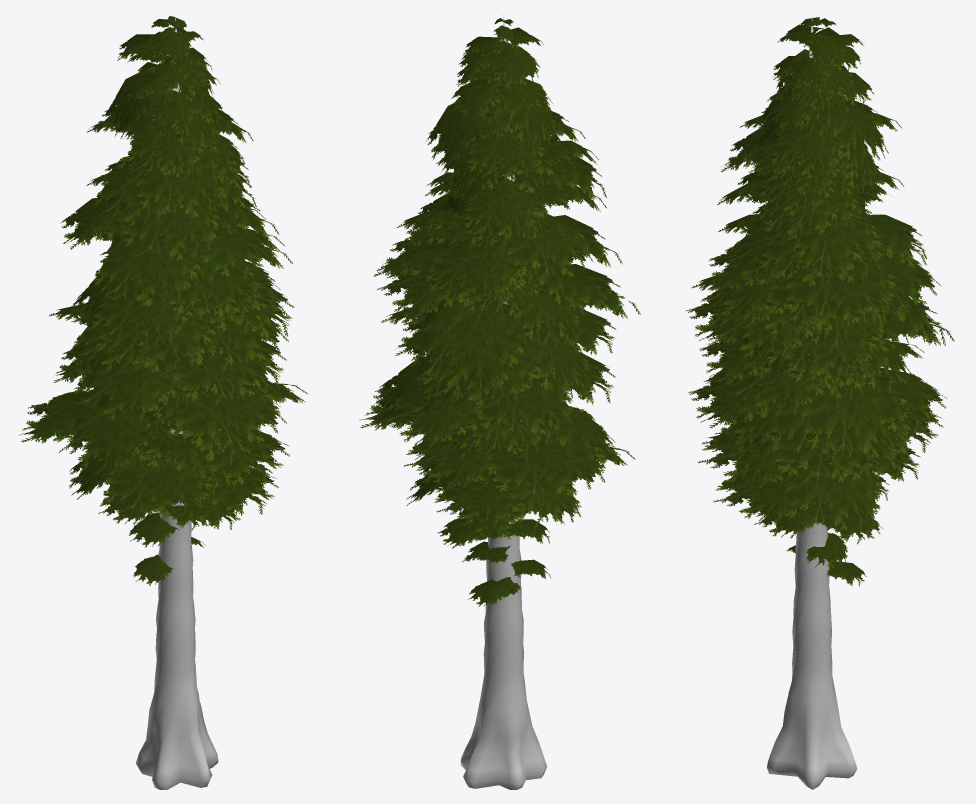
File: TreeMedium003.fbx
3 renders of one model, left to right at view 1: azimuth 30°, elevation 25°; view 2: azimuth 150°, elevation 25°; view 3: azimuth 270°, elevation 25°, orthographic.
Visible parts, largest first — view 1: TreeMedium003_LOD0; view 2: TreeMedium003_LOD0; view 3: TreeMedium003_LOD0.
Boxes of the visible parts, x1,y1,x2,y2 form: TreeMedium003_LOD0: (18, 15, 308, 789); TreeMedium003_LOD0: (359, 14, 640, 789); TreeMedium003_LOD0: (686, 15, 954, 789).
Size of the model in its own units: 1172 by 3089 by 1052.
